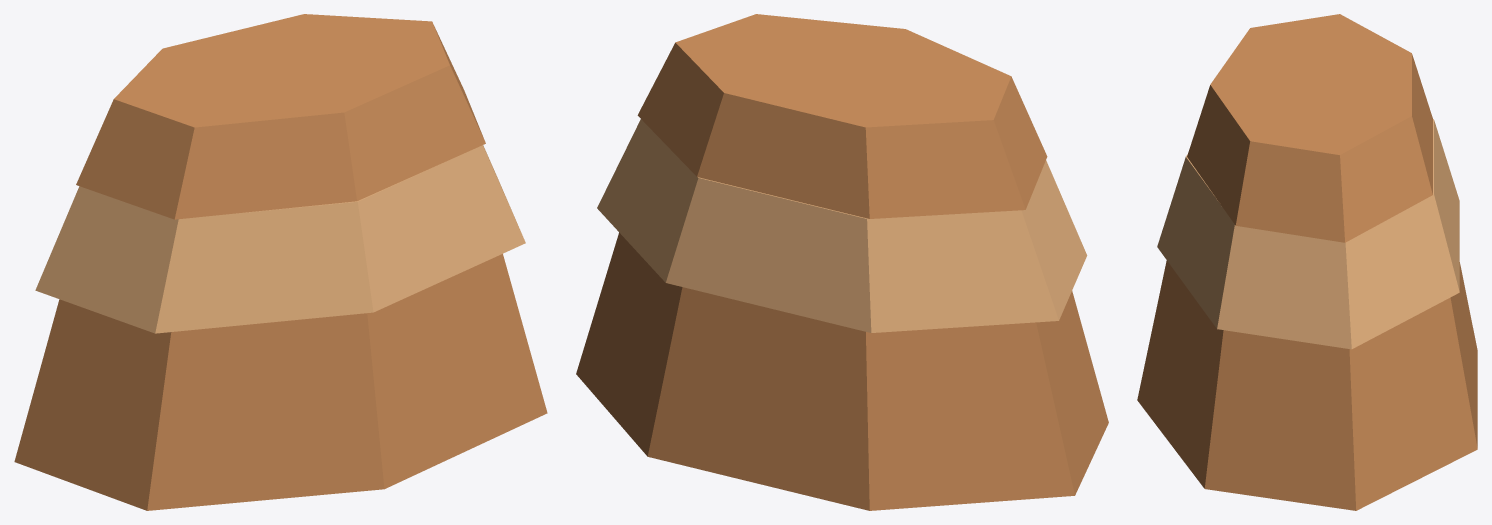
The model's file is sandstone_mesa.glb.
3 renders of one model, left to right at view 1: azimuth 30°, elevation 25°; view 2: azimuth 150°, elevation 25°; view 3: azimuth 270°, elevation 25°, orthographic. The views are drawn at different scales.
Visible parts, largest first — view 1: sandstone_mesa__static; view 2: sandstone_mesa__static; view 3: sandstone_mesa__static.
Boxes of the visible parts, box(x1,y1,x2,y2) form: sandstone_mesa__static: box(14, 14, 547, 510); sandstone_mesa__static: box(576, 14, 1108, 510); sandstone_mesa__static: box(1137, 14, 1477, 510).
Size of the model in its own units: 5.26 by 3.5 by 3.42.
